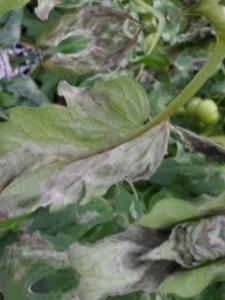Tomato leaf late blight: (0, 55, 199, 242)
